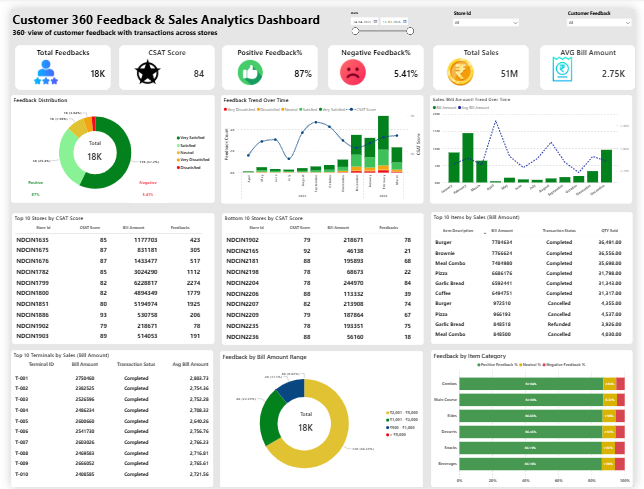

The page's visual inventory and layout, read from the dashboard file:
{"tool":"powerbi","page":{"name":"Page 1","canvas":[2150,1650],"ordinal":0},"visuals":[{"type":"textbox","box":[0,0,2900,102.9],"z":0},{"type":"slicer","fields":{"Values":["Table 1 (Sheet1).Date"]},"box":[1157.1,0,238.6,102.9],"z":1000},{"type":"donutChart","title":"Feedback Distribution","fields":{"Category":["Table 1 (Sheet1).customer_feedback"],"Y":["Table 1 (Sheet1).Total Feedback"]},"box":[0,296.7,702.2,372.2],"z":2000},{"type":"slicer","fields":{"Values":["Table 1 (Sheet1).Store Id"]},"box":[1513.3,0,248.3,125],"z":5000},{"type":"slicer","fields":{"Values":["Table 1 (Sheet1).customer_feedback"]},"box":[1906.7,0,243.3,103.3],"z":6000},{"type":"cardVisual","title":"Positive Feedback%","fields":{"Data":["Table 1 (Sheet1).Positive Feedback %"]},"box":[727.5,125,330,155],"z":7000},{"type":"cardVisual","title":"Total Feedbacks","fields":{"Data":["Table 1 (Sheet1).Total Feedback"]},"box":[13.3,125,330,155],"z":8000},{"type":"cardVisual","title":"CSAT Score","fields":{"Data":["Table 1 (Sheet1).CSAT Score"]},"box":[372.5,125,330,155],"z":9000},{"type":"cardVisual","title":"Total Sales","fields":{"Data":["Table 1 (Sheet1).Total Sales"]},"box":[1455,125,330,155],"z":10000},{"type":"cardVisual","title":"AVG Bill Amount","fields":{"Data":["Table 1 (Sheet1).Avg Bill Amount"]},"box":[1822.5,125,330,155],"z":11000},{"type":"cardVisual","title":"Negative Feedback%","fields":{"Data":["Table 1 (Sheet1).Negative Feedback %"]},"box":[1092.5,125,330,155],"z":13000},{"type":"cardVisual","title":"Total","fields":{"Data":["Table 1 (Sheet1).Total Feedback"]},"box":[233.8,447.5,110,90],"z":14000},{"type":"cardVisual","title":"Positive","fields":{"Data":["Table 1 (Sheet1).Positive Feedback %"]},"box":[33.3,585.6,101.1,80],"z":15000},{"type":"cardVisual","title":"Negative","fields":{"Data":["Table 1 (Sheet1).Negative Feedback %"]},"box":[414.4,585.6,117.8,83.3],"z":16000},{"type":"lineStackedColumnComboChart","title":"Feedback Trend Over Time","fields":{"Category":["Table 1 (Sheet1).Date.Variation.Date Hierarchy.Year","Table 1 (Sheet1).Date.Variation.Date Hierarchy.Month"],"Y2":["Table 1 (Sheet1).CSAT Score"],"Y":["Table 1 (Sheet1).Very Dissatisfied","Table 1 (Sheet1).Dissatisfied","Table 1 (Sheet1).Neutral","Table 1 (Sheet1).Satisfied","Table 1 (Sheet1).Very Satisfied"]},"box":[724,296,698,374],"z":17000},{"type":"lineClusteredColumnComboChart","title":"Sales (Bill Amount) Trend Over Time","fields":{"Category":["Table 1 (Sheet1).bill_date.Variation.Date Hierarchy.Month"],"Y":["Sum(Table 1 (Sheet1).bill_amount)"],"Y2":["Table 1 (Sheet1).Avg Bill Amount"]},"box":[1446.4,297.1,697.1,373.9],"z":18000},{"type":"tableEx","title":"Top 10 Stores by CSAT Score","fields":{"Values":["Table 1 (Sheet1).Store Id","Table 1 (Sheet1).CSAT Score","Sum(Table 1 (Sheet1).bill_amount)","Table 1 (Sheet1).Total Feedback"]},"box":[3.3,705,698.3,451.7],"z":20000},{"type":"tableEx","title":"Bottom 10 Stores by CSAT Score","fields":{"Values":["Table 1 (Sheet1).Store Id","Table 1 (Sheet1).CSAT Score","Sum(Table 1 (Sheet1).bill_amount)","Table 1 (Sheet1).Total Feedback"]},"box":[727.5,702.5,695,455],"z":21000},{"type":"tableEx","title":"Top 10 Items by Sales (Bill Amount)","fields":{"Values":["Table 1 (Sheet1).item_name","Sum(Table 1 (Sheet1).bill_amount)","Table 1 (Sheet1).transaction_status","Table 1 (Sheet1).quantity_sold"]},"box":[1450,700,695,455],"z":22000},{"type":"tableEx","title":"Top 10 Terminals by Sales (Bill Amount)","fields":{"Values":["Table 1 (Sheet1).terminal","Sum(Table 1 (Sheet1).bill_amount)","Table 1 (Sheet1).transaction_status","Table 1 (Sheet1).Avg Bill Amount"]},"box":[0,1177.4,696.8,474.2],"z":23000},{"type":"donutChart","title":"Feedback by Bill Amount Range ","fields":{"Category":["Table 1 (Sheet1).bill_amount_range_new"],"Y":["Table 1 (Sheet1).Transaction Count"]},"box":[722.2,1177.8,700,474.1],"z":25000},{"type":"cardVisual","title":"Total","fields":{"Data":["Table 1 (Sheet1).Total Feedback"]},"box":[962,1384,111,89],"z":26000},{"type":"image","box":[33.3,168.3,171.7,96.7],"z":27000},{"type":"image","box":[387.5,170,170,92.5],"z":28000},{"type":"image","box":[777.5,172.5,97.5,92.5],"z":29000},{"type":"image","box":[1127.5,167.5,102.5,97.5],"z":30000},{"type":"image","box":[1480,170,140,95],"z":31000},{"type":"image","box":[1860,160,85,97.5],"z":32000},{"type":"hundredPercentStackedBarChart","title":"Feedback by Item Category","fields":{"Category":["Table 1 (Sheet1).item_category"],"Y":["Table 1 (Sheet1).Positive Feedback %","Table 1 (Sheet1).Neutral %","Table 1 (Sheet1).Negative Feedback %"]},"box":[1450,1177.5,695,472.5],"z":35000}]}

Visuals, with their boxes in screenshot pixels (x1, y1, x2, y2), scaled from the page's 2150x1650 canvas onto the 644x489 screenshot:
textbox: bbox(0, 0, 643, 30)
slicer - Table 1 (Sheet1).Date: bbox(347, 0, 418, 30)
"Feedback Distribution" donutChart: bbox(0, 88, 210, 198)
slicer - Table 1 (Sheet1).Store Id: bbox(453, 0, 528, 37)
slicer - Table 1 (Sheet1).customer_feedback: bbox(571, 0, 643, 31)
"Positive Feedback%" cardVisual: bbox(218, 37, 317, 83)
"Total Feedbacks" cardVisual: bbox(4, 37, 103, 83)
"CSAT Score" cardVisual: bbox(112, 37, 210, 83)
"Total Sales" cardVisual: bbox(436, 37, 535, 83)
"AVG Bill Amount" cardVisual: bbox(546, 37, 643, 83)
"Negative Feedback%" cardVisual: bbox(327, 37, 426, 83)
"Total" cardVisual: bbox(70, 133, 103, 159)
"Positive" cardVisual: bbox(10, 174, 40, 197)
"Negative" cardVisual: bbox(124, 174, 159, 198)
"Feedback Trend Over Time" lineStackedColumnComboChart: bbox(217, 88, 426, 199)
"Sales (Bill Amount) Trend Over Time" lineClusteredColumnComboChart: bbox(433, 88, 642, 199)
"Top 10 Stores by CSAT Score" tableEx: bbox(1, 209, 210, 343)
"Bottom 10 Stores by CSAT Score" tableEx: bbox(218, 208, 426, 343)
"Top 10 Items by Sales (Bill Amount)" tableEx: bbox(434, 207, 643, 342)
"Top 10 Terminals by Sales (Bill Amount)" tableEx: bbox(0, 349, 209, 488)
"Feedback by Bill Amount Range " donutChart: bbox(216, 349, 426, 488)
"Total" cardVisual: bbox(288, 410, 321, 437)
image: bbox(10, 50, 61, 79)
image: bbox(116, 50, 167, 78)
image: bbox(233, 51, 262, 79)
image: bbox(338, 50, 368, 79)
image: bbox(443, 50, 485, 79)
image: bbox(557, 47, 583, 76)
"Feedback by Item Category" hundredPercentStackedBarChart: bbox(434, 349, 643, 488)
